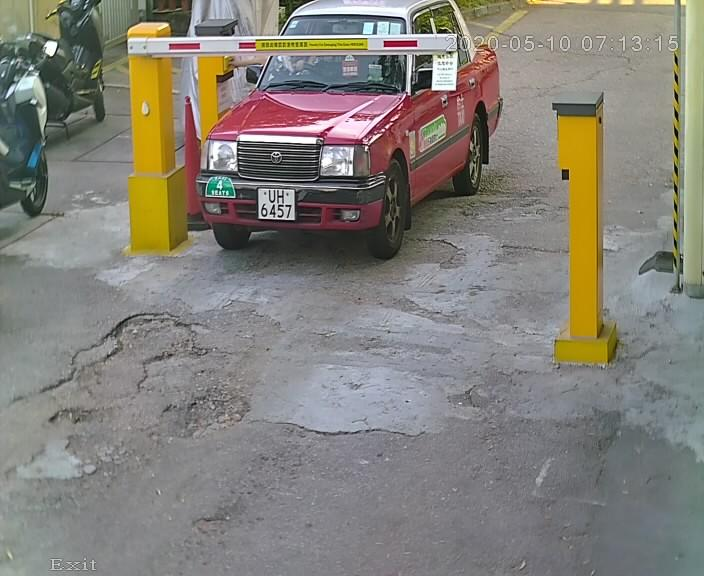Car: (182, 1, 512, 265)
License Plate: (248, 179, 303, 226)
